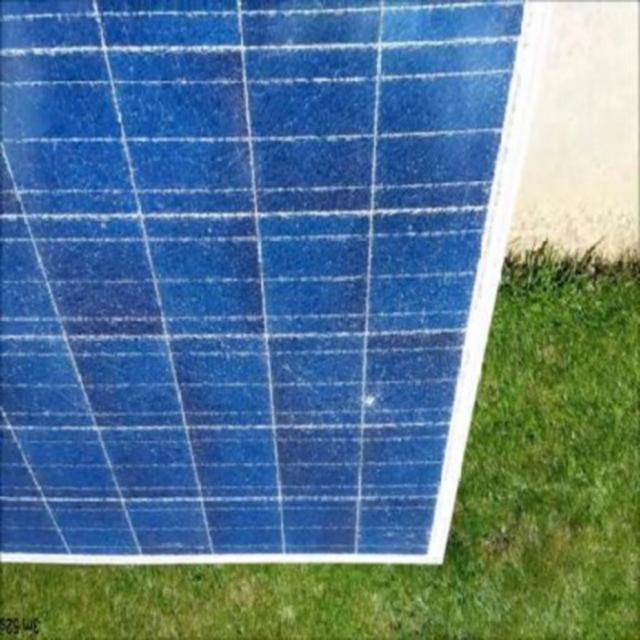cracked: (1, 2, 537, 564)
